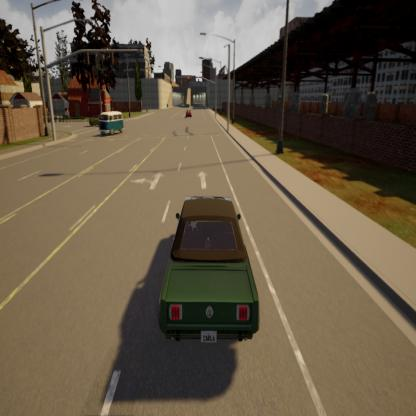Cars: (157, 187, 263, 357), (98, 109, 126, 137), (88, 113, 104, 129), (184, 109, 192, 118), (182, 102, 185, 108)
